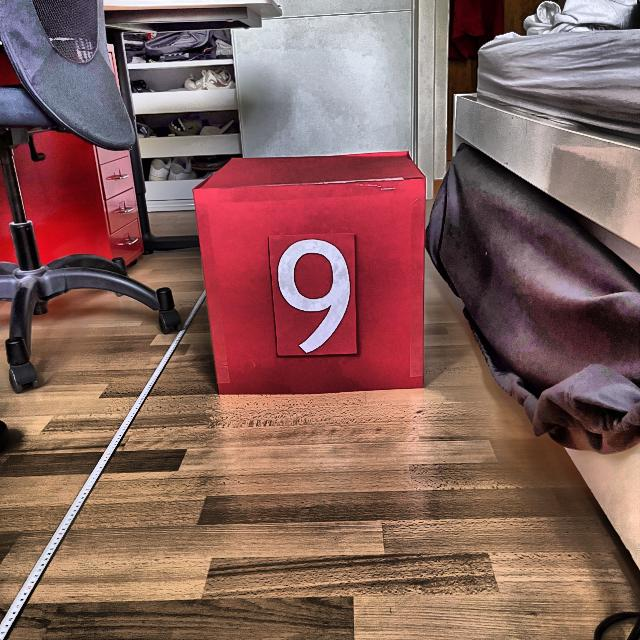nine: (274, 237, 352, 353)
red box: (188, 153, 436, 395)
